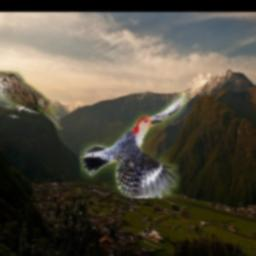Sparrow: (0, 70, 63, 129)
Woodpecker: (79, 93, 186, 198)
